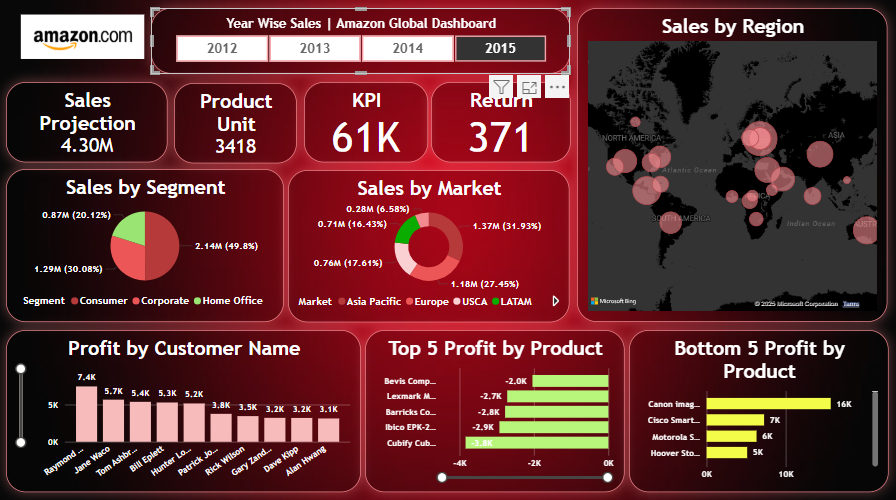

This screenshot's page, from the dashboard's own definition file:
{"tool":"powerbi","page":{"name":"Page 1","canvas":[1280,720],"ordinal":0},"visuals":[{"type":"slicer","title":"Year Wise Sales | Amazon  Global Dashboard","fields":{"Values":["Orders.Year"]},"box":[218.2,22,594.2,93.3],"z":0},{"type":"card","title":"Sales Projection","fields":{"Values":["Orders.Sales"]},"box":[12.3,126.2,229.2,113.9],"z":1000},{"type":"image","box":[12.3,26.1,216.8,72.7],"z":2000},{"type":"card","title":"Product Unit","fields":{"Values":["Orders.Product Name"]},"box":[251.1,127.6,174.3,113.9],"z":3000},{"type":"card","title":"KPI","fields":{"Values":["Orders.Quantity"]},"box":[435,126.2,175.6,113.9],"z":4000},{"type":"card","title":"Return ","fields":{"Values":["Orders.Ship Date"]},"box":[614.8,126.2,197.6,113.9],"z":5000},{"type":"pieChart","title":"Sales by Segment","fields":{"Category":["Orders.Segment"],"Y":["Orders.Sales"]},"box":[12.3,249.7,393.8,216.8],"z":6000},{"type":"donutChart","title":"Sales by Market","fields":{"Y":["Orders.Sales"],"Category":["Orders.Market"]},"box":[413,251,399,216],"z":7000},{"type":"columnChart","title":"Profit by Customer Name","fields":{"Category":["Orders.Customer Name"],"Y":["Orders.Profit"]},"box":[12.1,477.8,503.1,230.4],"z":8000},{"type":"clusteredBarChart","title":"Top 5 Profit by Product","fields":{"Category":["Orders.Product Name"],"Y":["Orders.Profit"]},"box":[521.2,477.8,368,230.4],"z":9000},{"type":"clusteredBarChart","title":"Bottom 5 Profit by Product","fields":{"Y":["Orders.Profit"],"Category":["Orders.Product Name"]},"box":[895.2,477.8,368,230.4],"z":10000},{"type":"map","title":"Sales by Region","fields":{"Category":["Orders.Region"],"Size":["Orders.Sales"]},"box":[822,22,440.5,444.6],"z":11000}]}

Visuals, with their boxes in screenshot pixels (x1, y1, x2, y2), scaled from the page's 1280x720 canvas onto the 896x500 screenshot:
"Year Wise Sales | Amazon  Global Dashboard" slicer: box(153, 15, 569, 80)
"Sales Projection" card: box(9, 88, 169, 167)
image: box(9, 18, 160, 69)
"Product Unit" card: box(176, 89, 298, 168)
"KPI" card: box(304, 88, 427, 167)
"Return " card: box(430, 88, 569, 167)
"Sales by Segment" pieChart: box(9, 173, 284, 324)
"Sales by Market" donutChart: box(289, 174, 568, 324)
"Profit by Customer Name" columnChart: box(8, 332, 361, 492)
"Top 5 Profit by Product" clusteredBarChart: box(365, 332, 622, 492)
"Bottom 5 Profit by Product" clusteredBarChart: box(627, 332, 884, 492)
"Sales by Region" map: box(575, 15, 884, 324)
